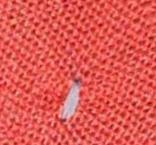hole: (57, 76, 86, 129)
